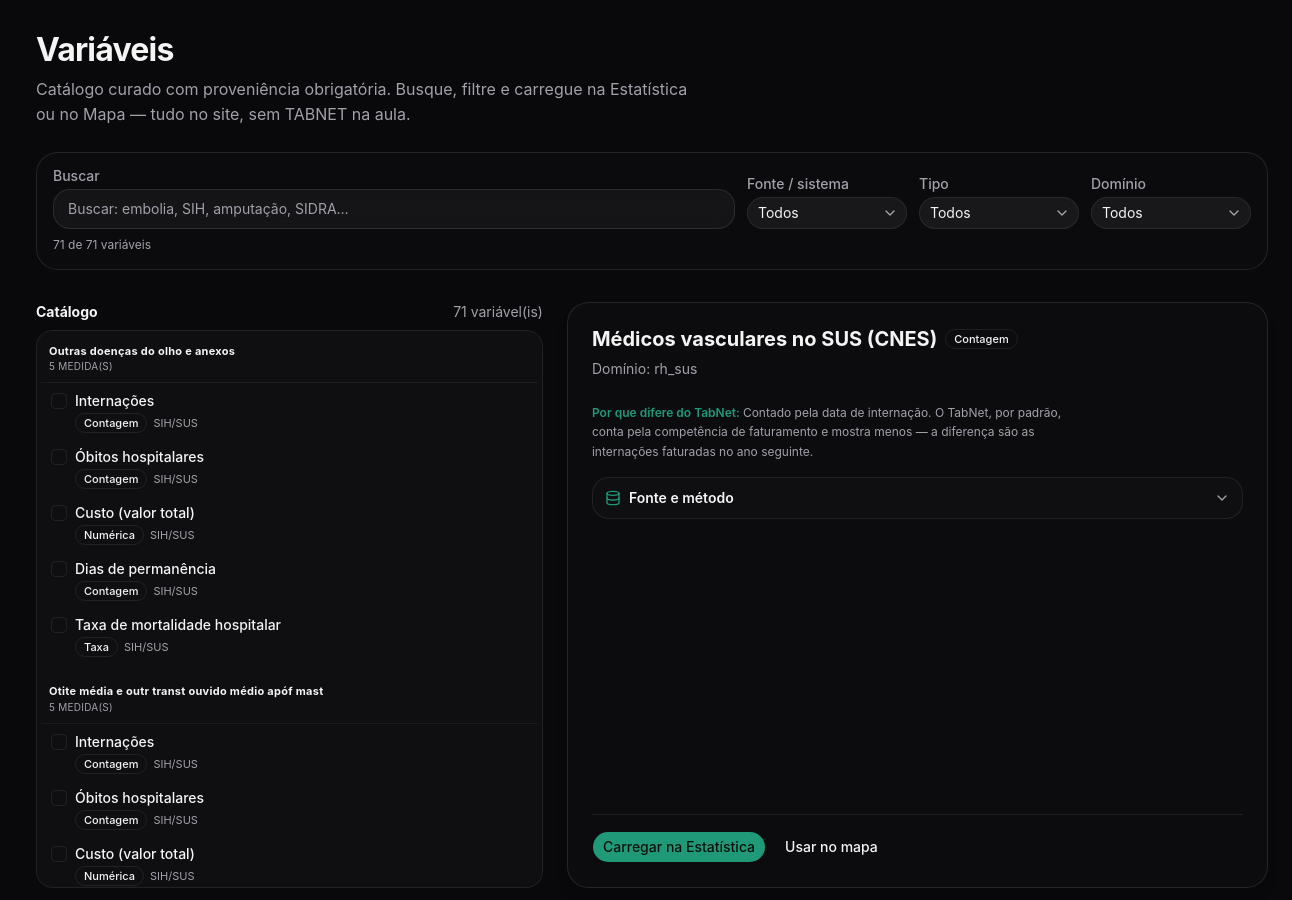
Test: VariaveisPage › filters the list by search query (CAT-01)
Type "cnes.medicos" into the search field labelled "Buscar" at (394,209), box [53, 189, 735, 229]
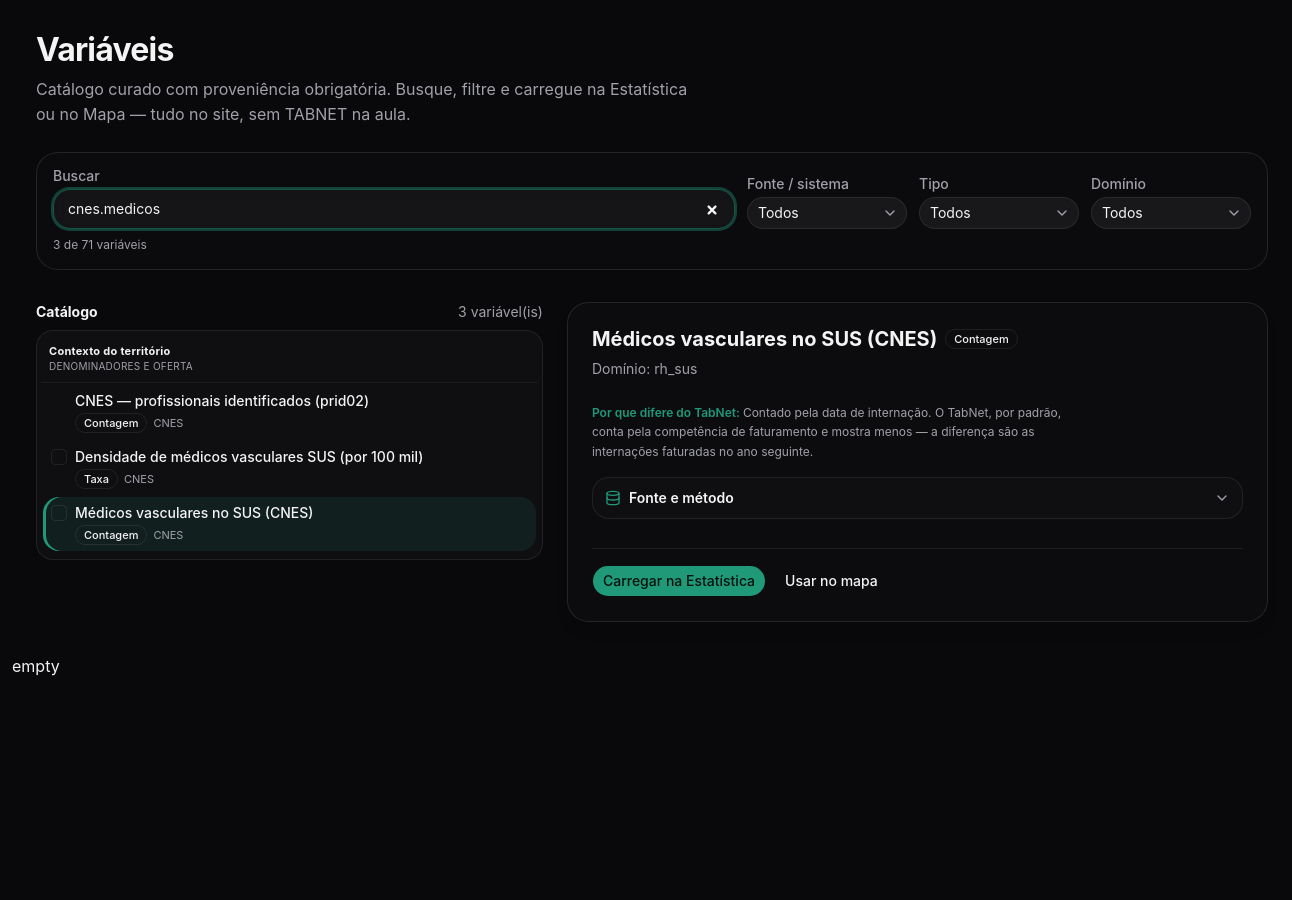
Check: the text "Médicos vasculares no SUS (CNES)" is shown, box [75, 504, 314, 524]
